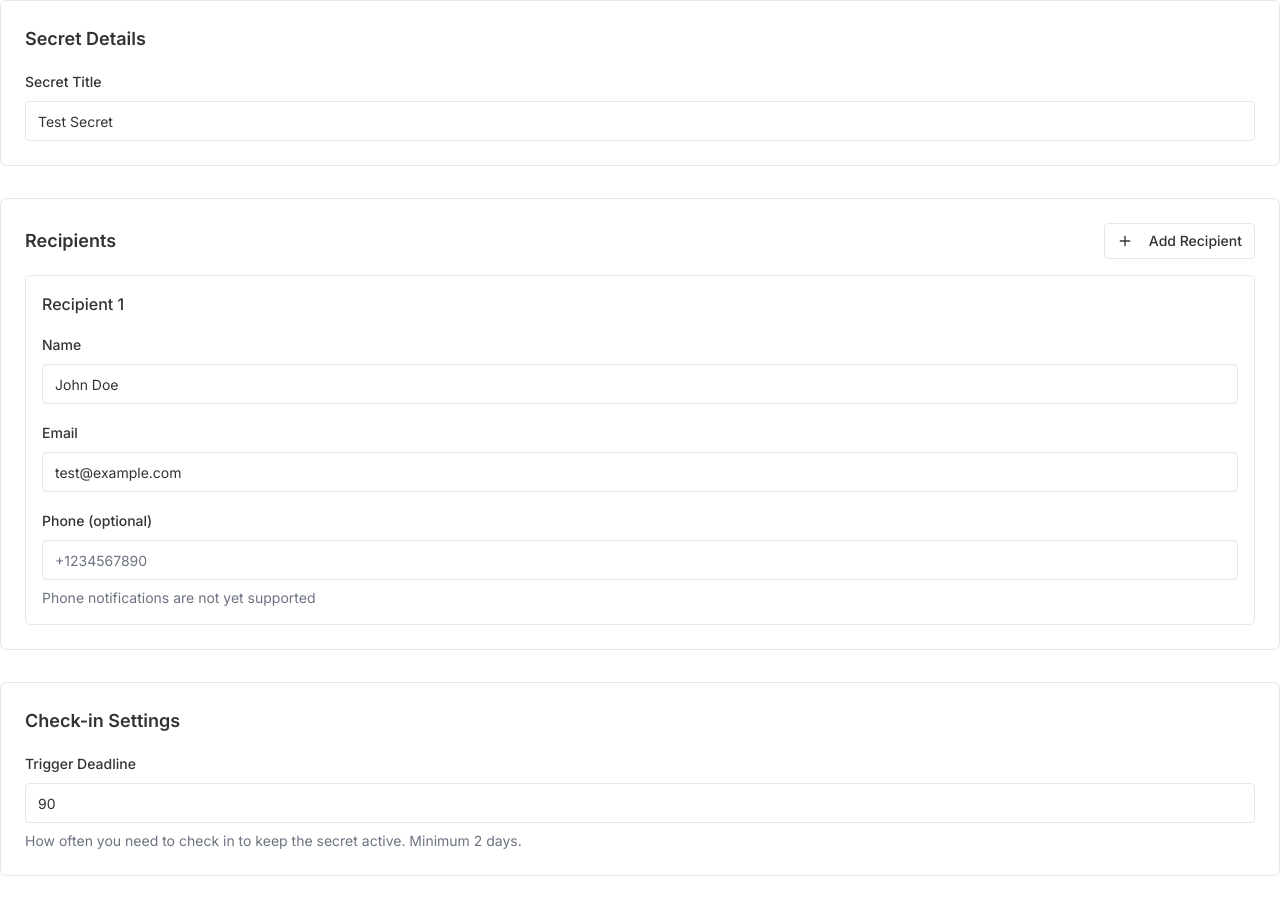
Scenario: EditSecretForm › should show validation error for invalid check-in days
// Enter invalid value
Replace the text in the number field showing "90" with "1": (640, 803) [25, 783, 1255, 823]
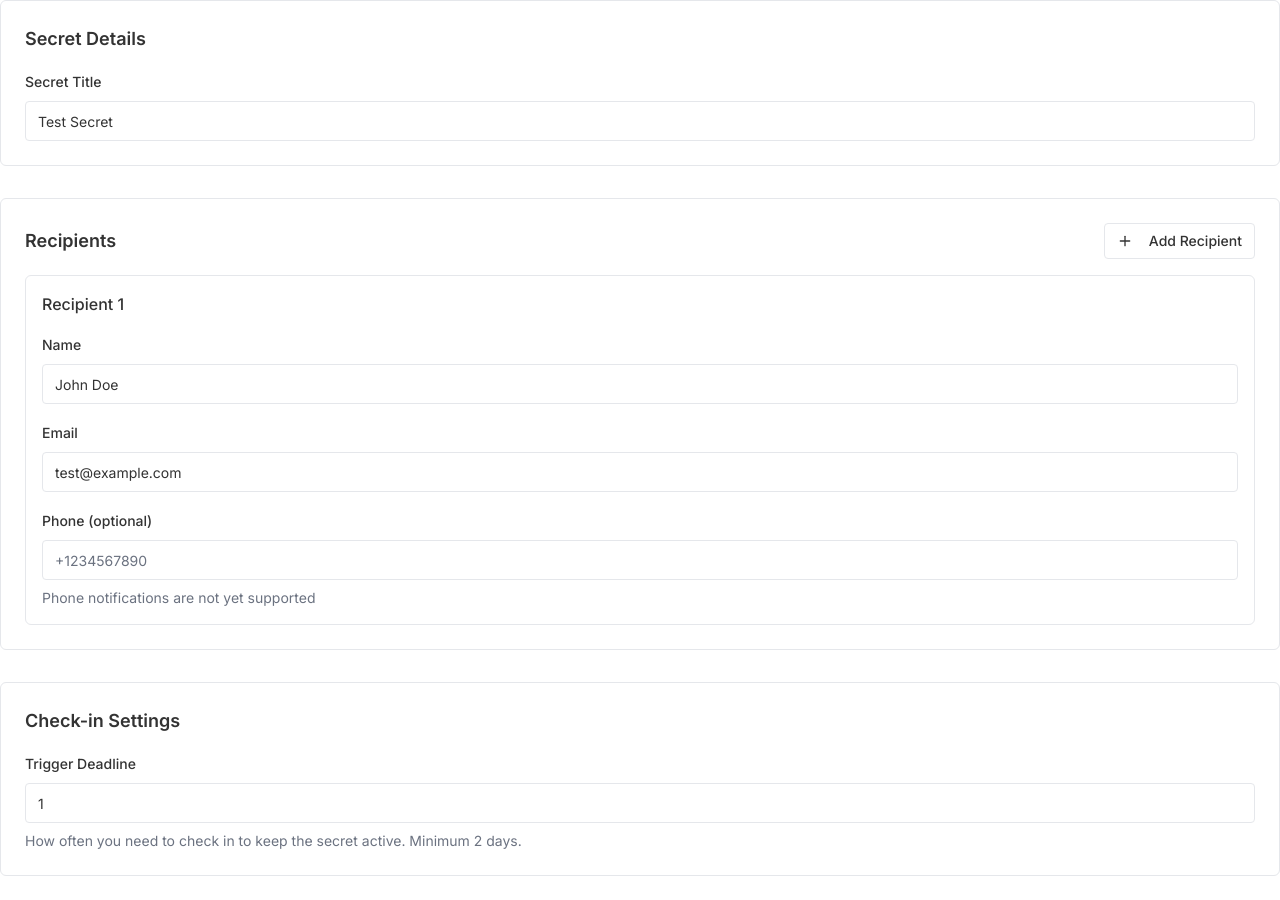
Leave the number field showing "90", box [25, 783, 1255, 823]
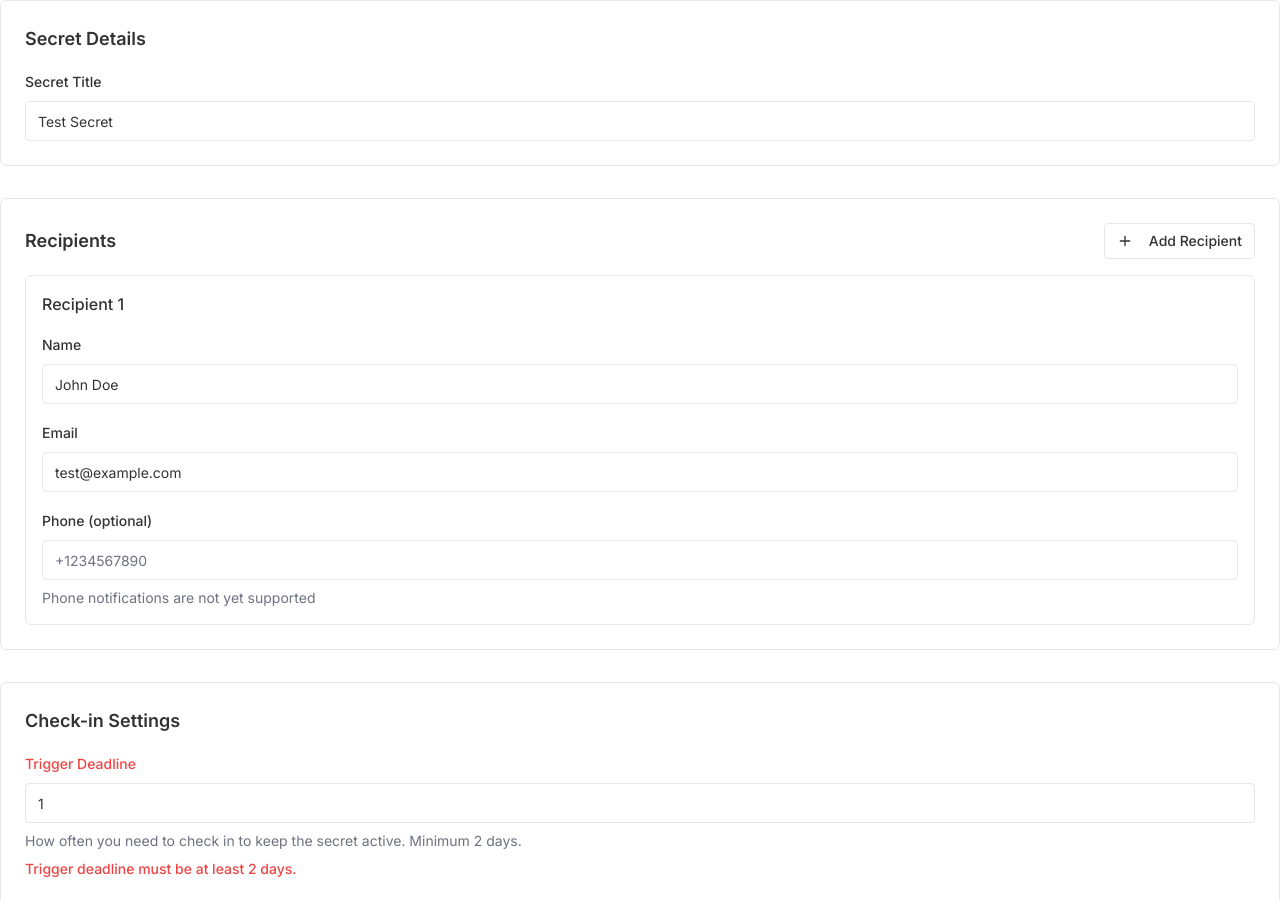
Result: the text "Trigger deadline must be at least 2 days." is shown at [25, 860, 297, 877]
